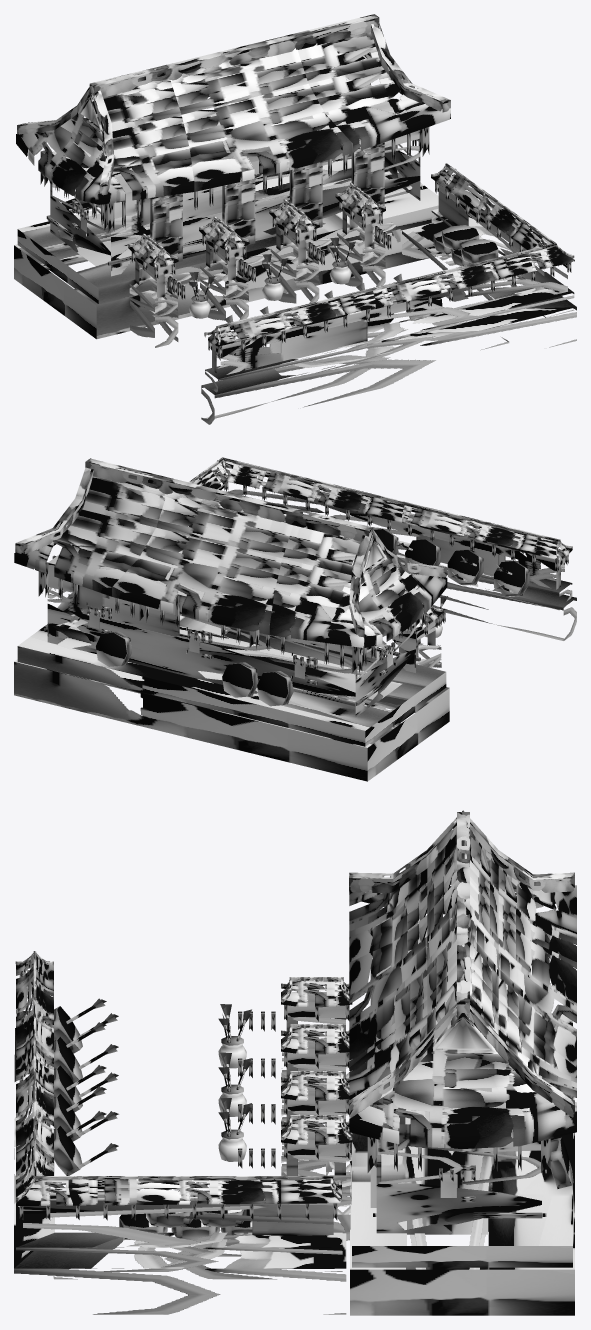
File: range.dae
3 renders of one model, top to bottom at view 1: azimuth 30°, elevation 25°; view 2: azimuth 150°, elevation 25°; view 3: azimuth 270°, elevation 25°, orthographic. The views are drawn at different scales.
Visible parts, largest first — view 1: range; view 2: range; view 3: range.
Boxes of the visible parts, bbox=[...] form: range: bbox=[14, 14, 576, 424]; range: bbox=[14, 457, 576, 781]; range: bbox=[14, 810, 576, 1315].
Bounding box in the file's own units: 25.88 × 25.58 × 14.66.
